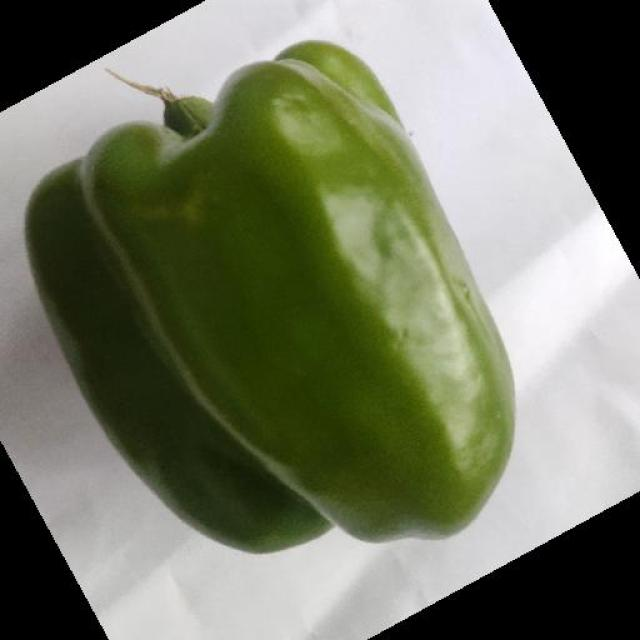Stale_Capsicum: (14, 119, 358, 590)
